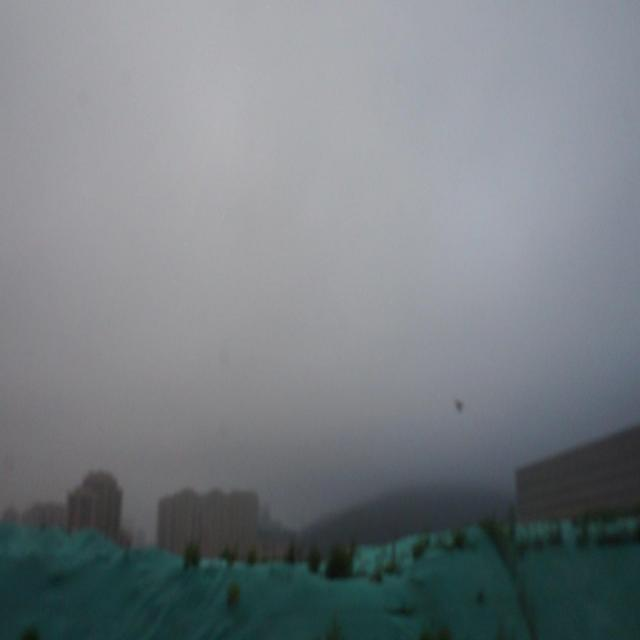UAV: (454, 399, 464, 412)
